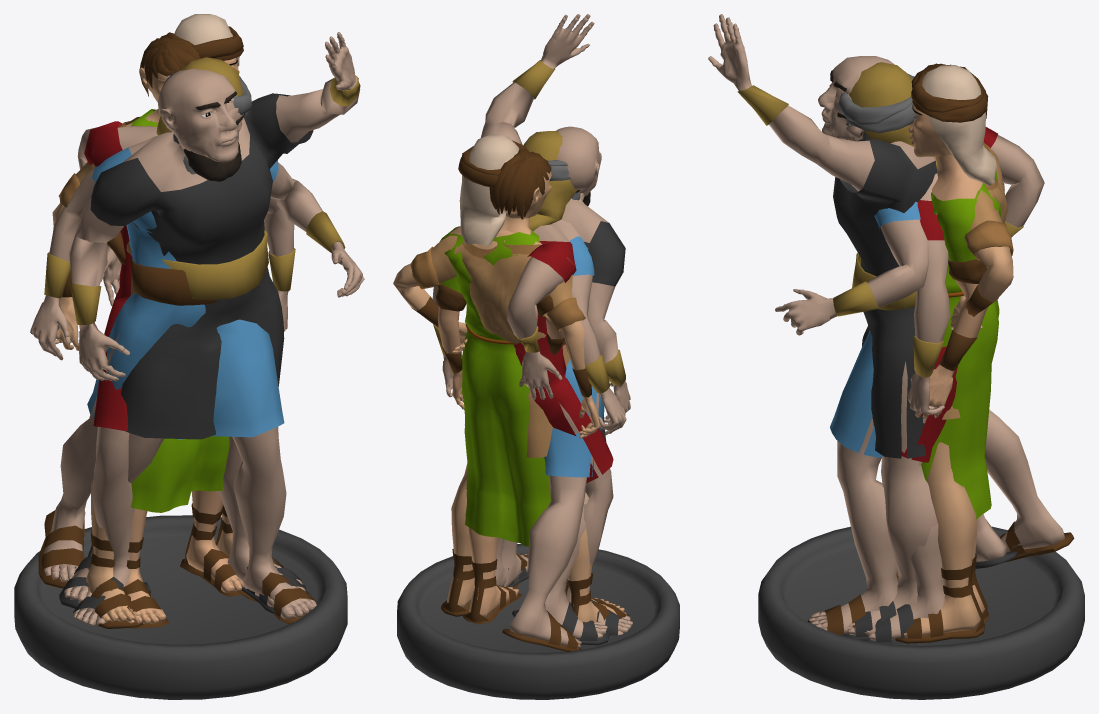
Rendered from worker_figurines.FBX.
3 views of the same model, side by side, from view 1: azimuth 30°, elevation 25°; view 2: azimuth 150°, elevation 25°; view 3: azimuth 270°, elevation 25° (orthographic). The views are drawn at different scales.
Visible parts, largest first — view 1: worker-005, worker-03, worker-04, worker-01, worker-02; view 2: worker-01, worker-04, worker-02, worker-005, worker-03; view 3: worker-01, worker-005, worker-04, worker-03, worker-02.
Part boxes in pixels (<box>): worker-005: <box>59,32,360,613</box>; worker-03: <box>30,96,364,623</box>; worker-04: <box>14,57,340,699</box>; worker-01: <box>15,32,347,697</box>; worker-02: <box>107,14,244,628</box>; worker-01: <box>393,148,676,699</box>; worker-04: <box>397,130,679,699</box>; worker-02: <box>436,134,612,624</box>; worker-005: <box>481,14,630,645</box>; worker-03: <box>501,190,626,651</box>; worker-01: <box>758,63,1084,697</box>; worker-005: <box>708,14,1017,640</box>; worker-04: <box>759,62,1083,699</box>; worker-03: <box>775,88,1074,635</box>; worker-02: <box>896,65,1003,622</box>.
Bounding box in the file's own units: 37.36 × 80.81 × 43.08.
